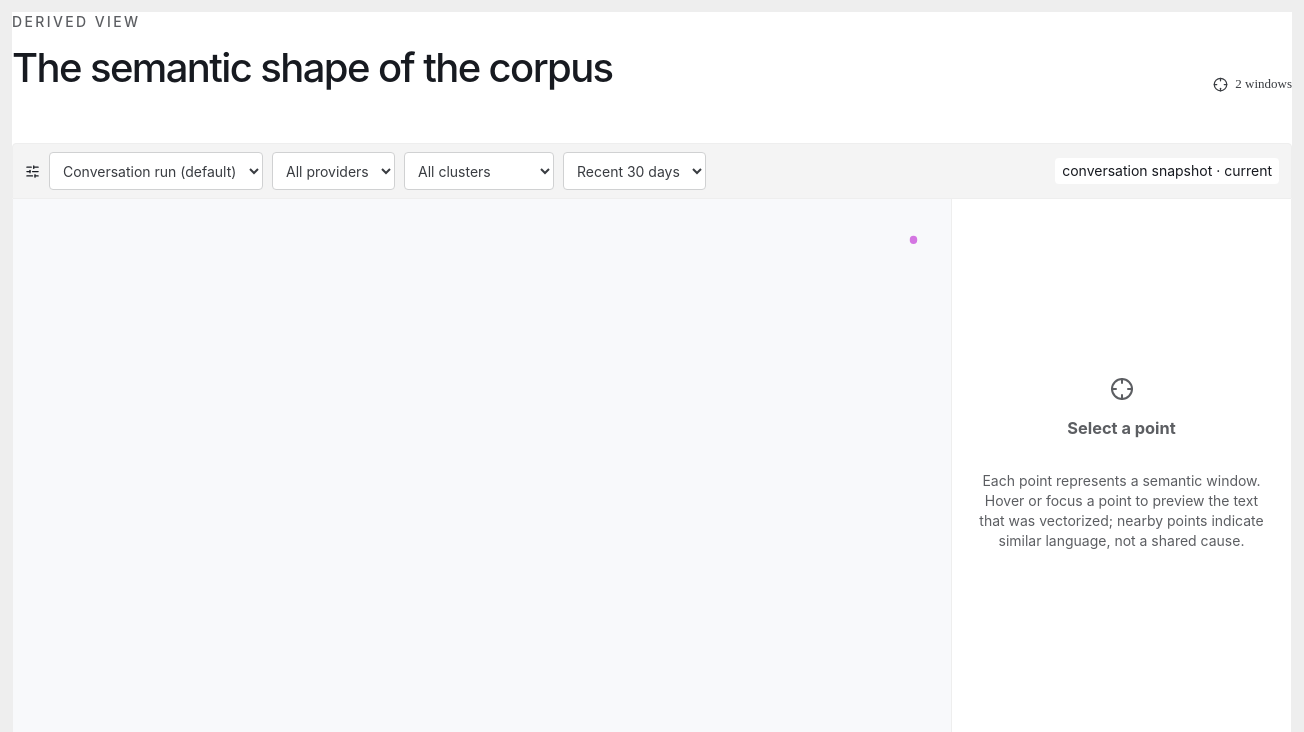
Test: semantic map › lets a date change notify the parent and reset the selected point
The image size is (1304, 732).
Select "Custom dates" in the dropdown named "Time range" at (634, 171), box [563, 152, 706, 190]
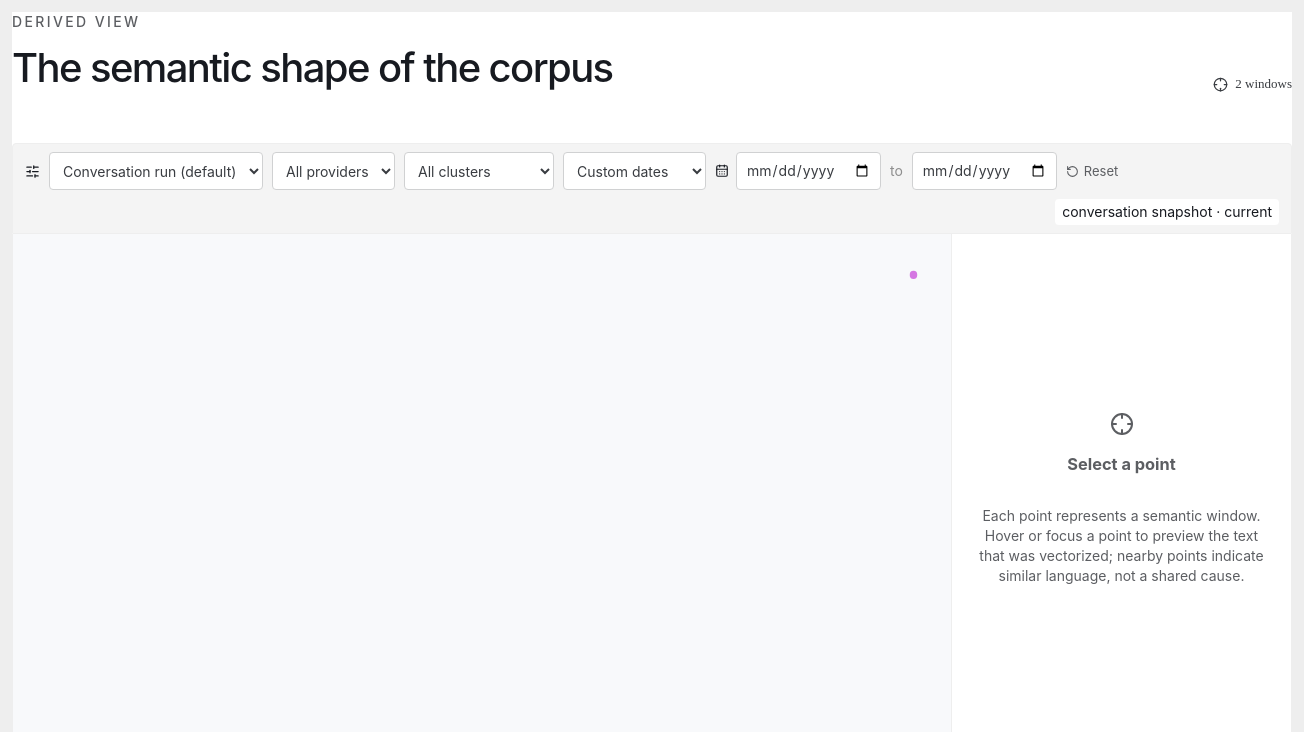
Type "2026-08-24" into the date field named "Date from" at (808, 171), box [736, 152, 881, 190]
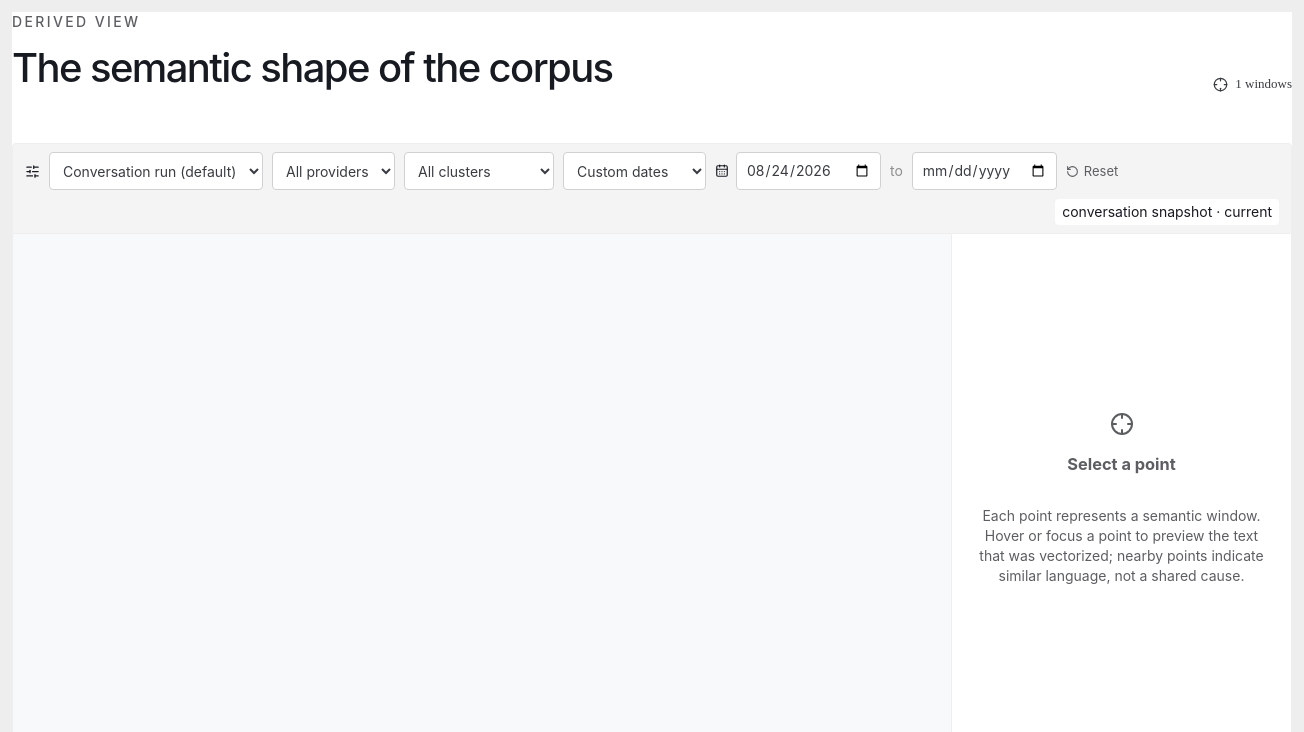
Expected: the text "1 windows" is shown, [1213, 76, 1292, 92]
